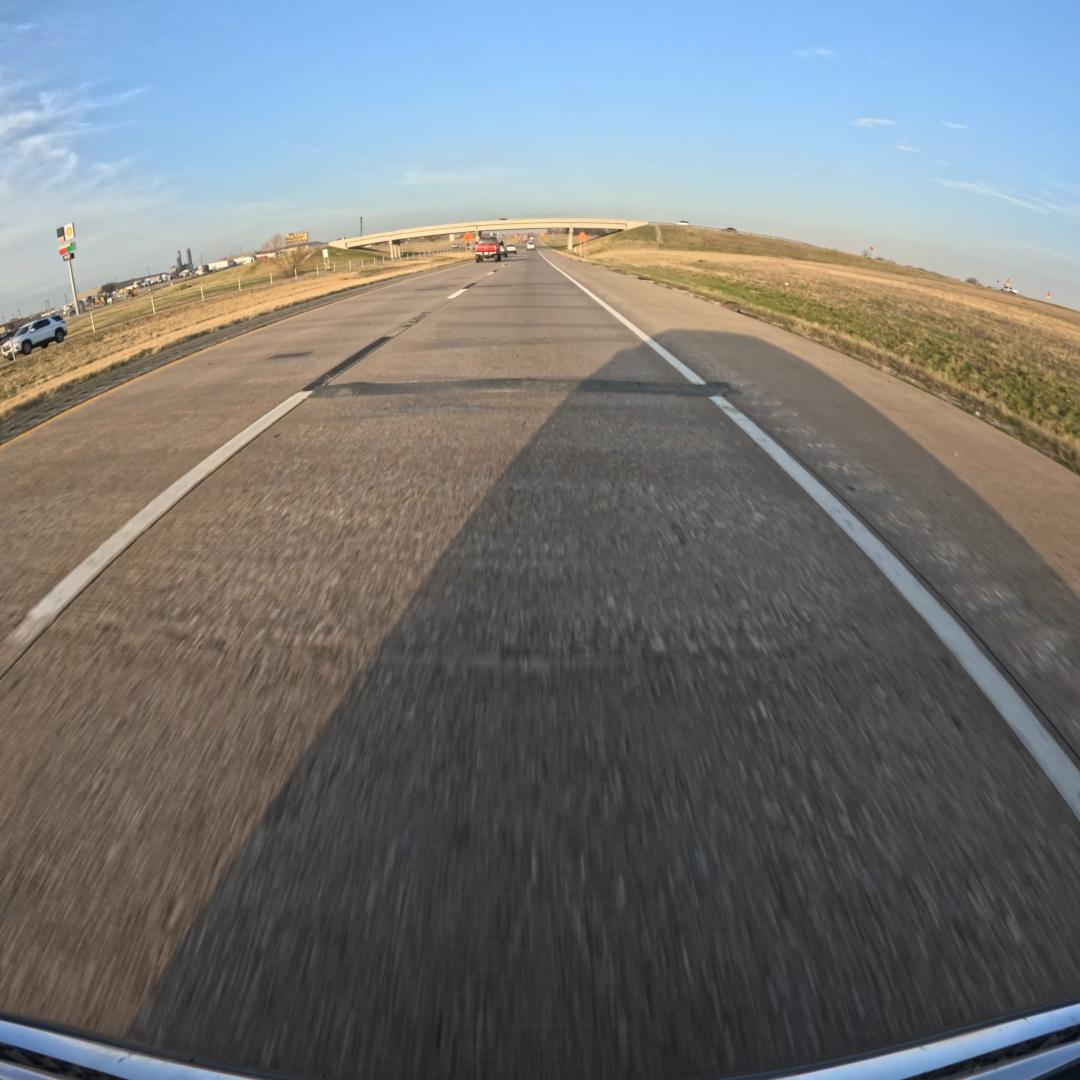lane0: (0, 256, 1080, 1080)
lane1: (0, 261, 505, 676)
